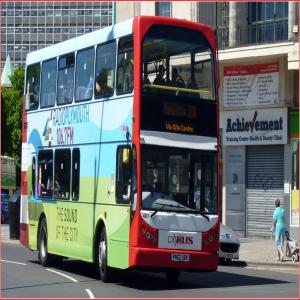Vehicle-registration-plate: (172, 254, 190, 262), (226, 254, 234, 259)
